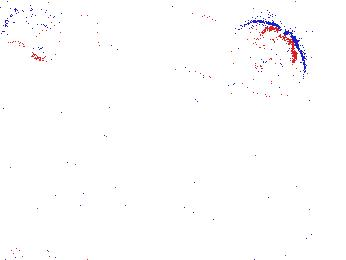moon jellyfish: (137, 12, 241, 90), (230, 20, 305, 98), (96, 1, 179, 59), (4, 8, 63, 63)
